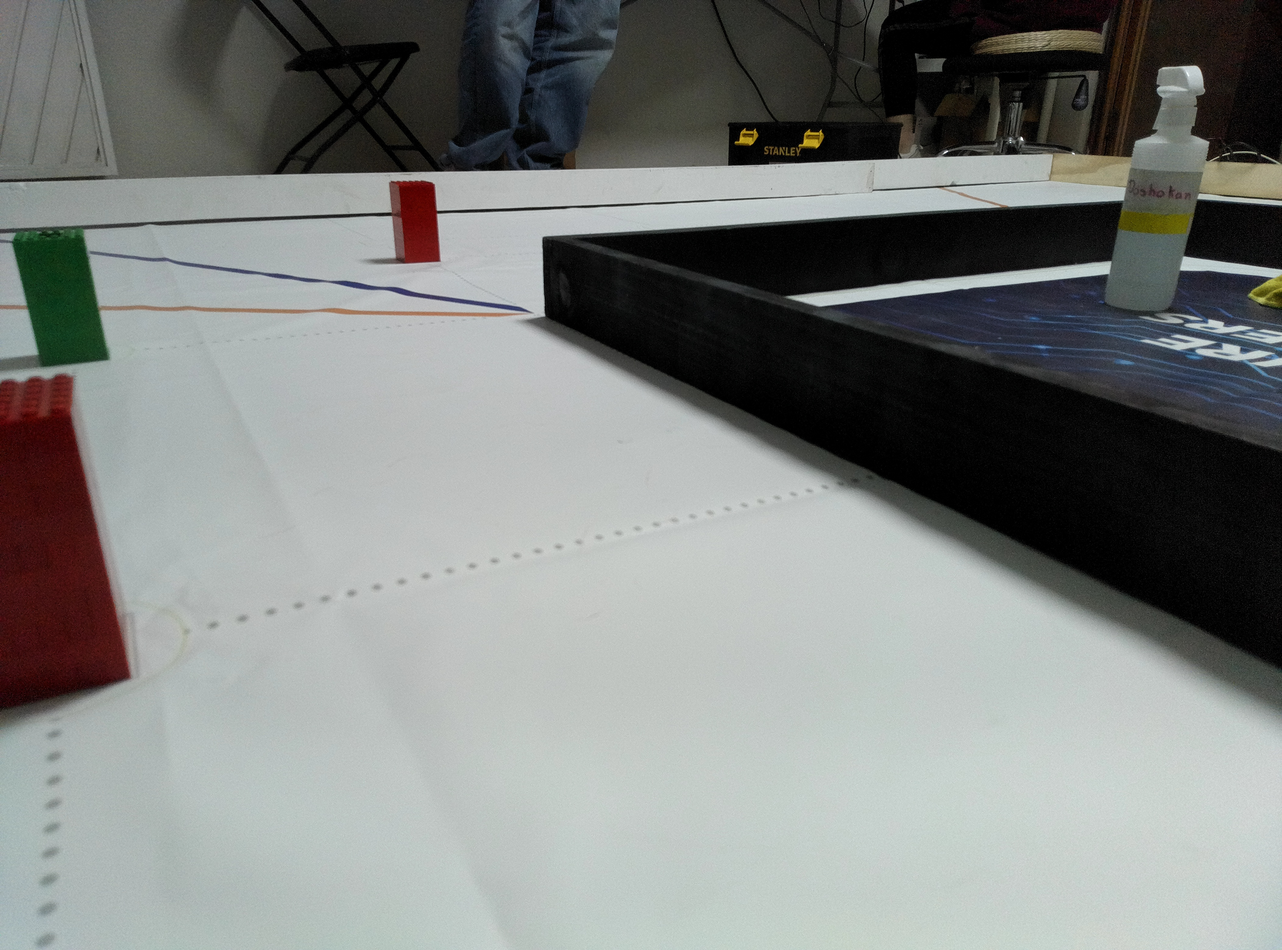greenbox: (10, 226, 111, 368)
redbox: (0, 371, 138, 714), (388, 178, 442, 266)
